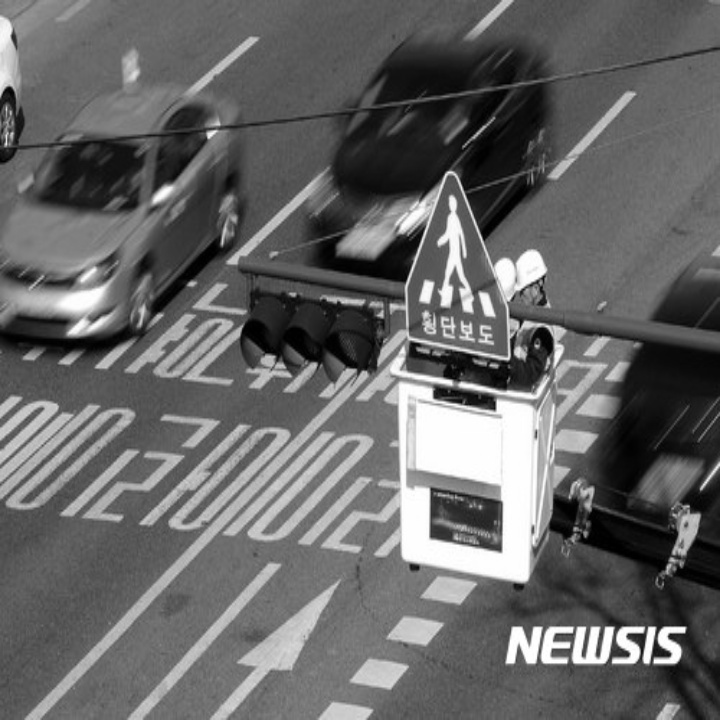cross: (410, 184, 515, 325)
